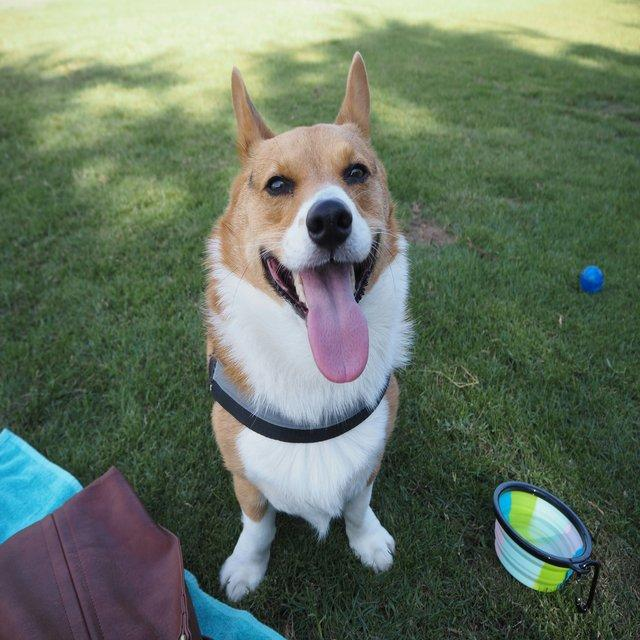corgi: (200, 49, 415, 603)
